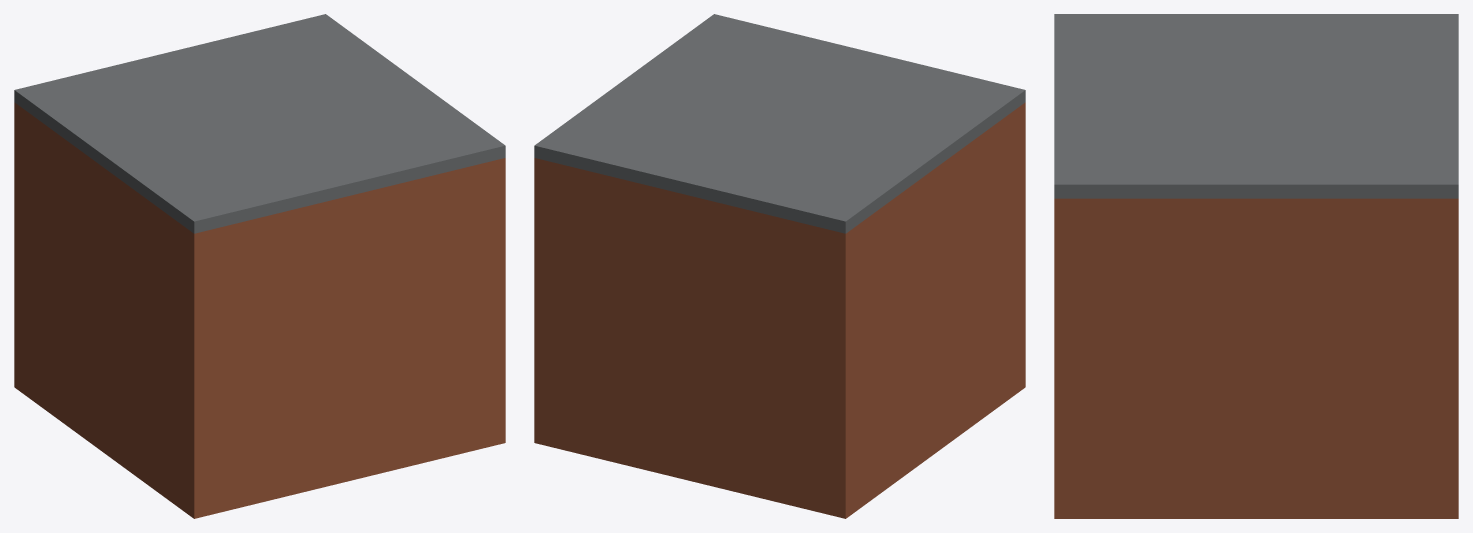
The model's file is arcade-body.glb.
The picture shows the model from 3 angles, left to right: view 1: azimuth 30°, elevation 25°; view 2: azimuth 150°, elevation 25°; view 3: azimuth 270°, elevation 25°; orthographic projection. The views are drawn at different scales.
Parts seen in each view (by area): view 1: arcade-body; view 2: arcade-body; view 3: arcade-body.
Boxes of the visible parts, x1,y1,x2,y2 form: arcade-body: [14, 14, 505, 518]; arcade-body: [534, 14, 1025, 518]; arcade-body: [1054, 14, 1458, 518].
Bounding box in the file's own units: 4 × 3.65 × 4.
